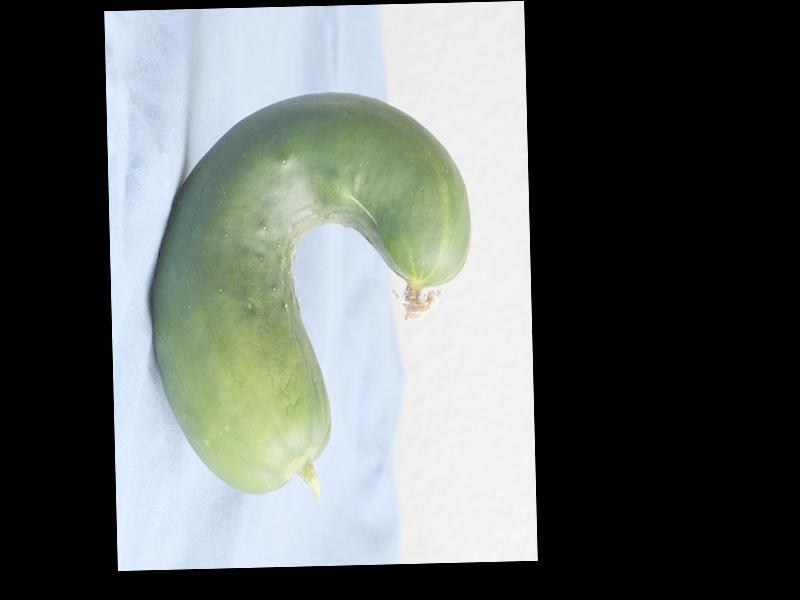Cucumber: (146, 87, 478, 497)
